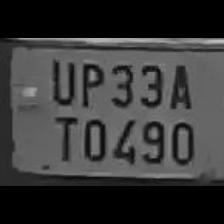0: (78, 111, 108, 161), (168, 116, 196, 162)
3: (134, 60, 164, 108), (106, 58, 134, 108)
4: (108, 111, 135, 163)
9: (138, 114, 164, 162)
A: (166, 60, 195, 112)
P: (76, 59, 104, 109)
T: (48, 109, 78, 161)
U: (45, 55, 77, 105)
